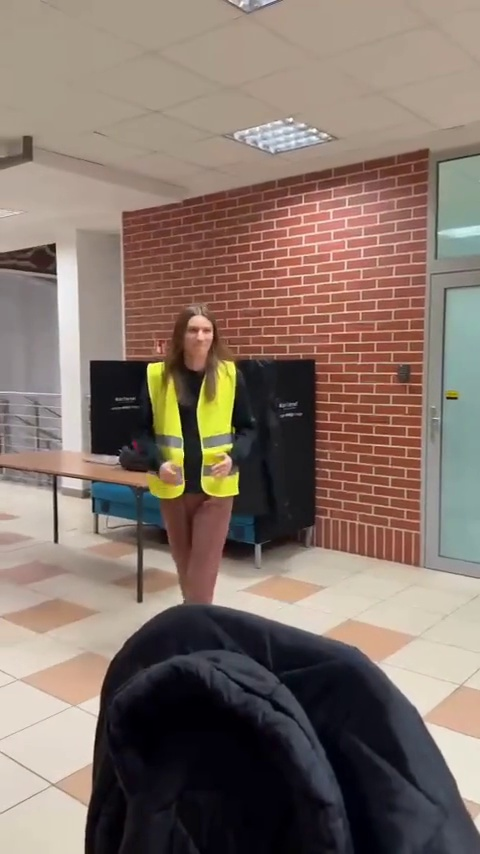vest: (143, 307, 250, 607)
